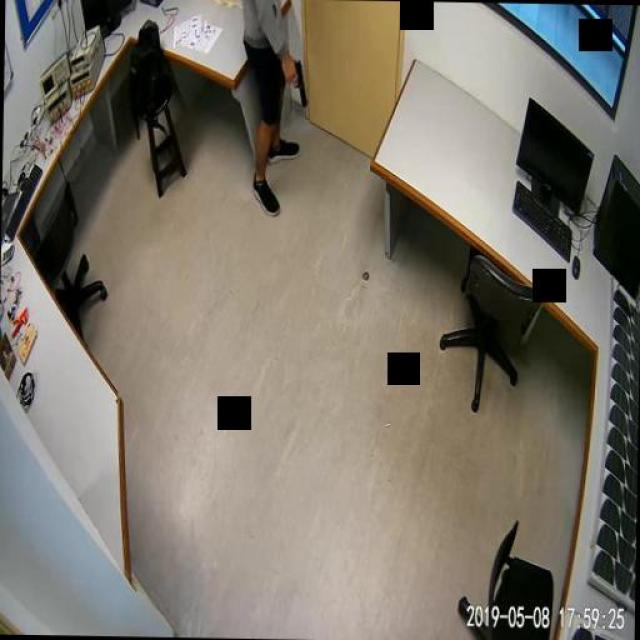gun: (285, 59, 307, 108)
